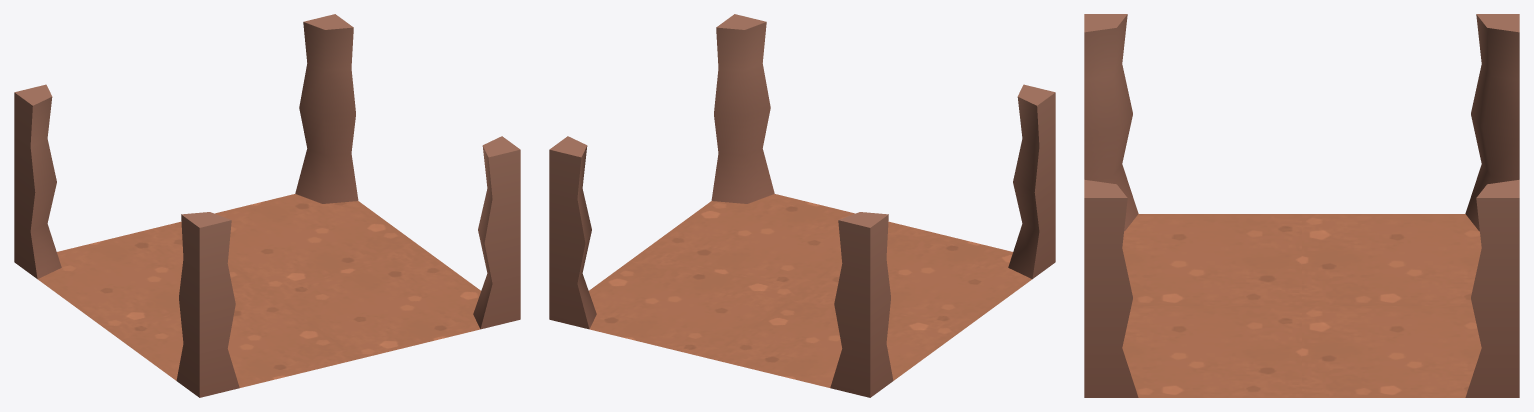
The model's file is corridor-wide-intersection.glb.
The picture shows the model from 3 angles, left to right: view 1: azimuth 30°, elevation 25°; view 2: azimuth 150°, elevation 25°; view 3: azimuth 270°, elevation 25°; orthographic projection. The views are drawn at different scales.
Visible parts, largest first — view 1: corridor-wide-intersection; view 2: corridor-wide-intersection; view 3: corridor-wide-intersection.
Boxes of the visible parts, box(x1,y1,x2,y2) form: corridor-wide-intersection: box(14, 14, 520, 397); corridor-wide-intersection: box(549, 14, 1055, 397); corridor-wide-intersection: box(1084, 14, 1519, 397).
Size of the model in its own units: 8 by 4.05 by 8.
Materials: 1 (1 with a texture image).
